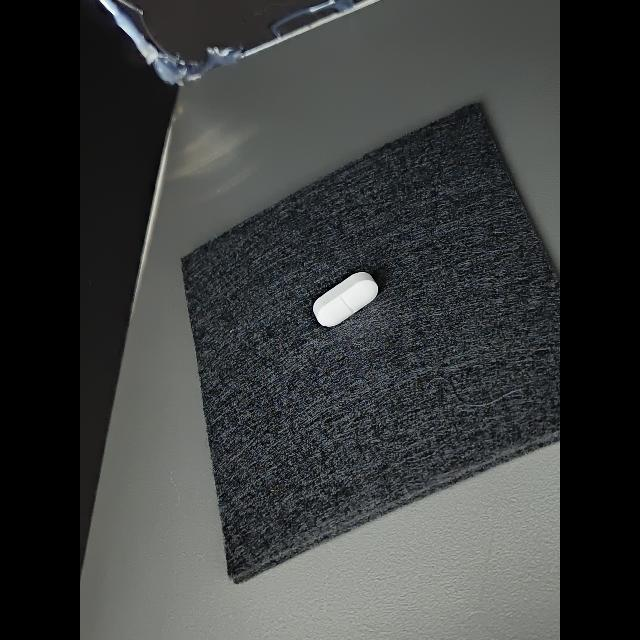Intact Pill: (313, 272, 378, 326)
